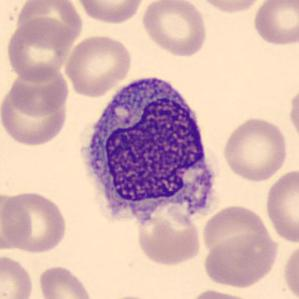Monocyte: (73, 68, 222, 232)
RBC: (132, 200, 204, 268), (220, 114, 290, 183), (199, 203, 276, 265), (201, 231, 281, 289), (62, 33, 134, 97), (2, 188, 69, 256), (5, 16, 74, 82), (0, 87, 70, 147), (139, 0, 209, 57), (6, 64, 70, 118), (15, 1, 85, 48), (264, 166, 298, 246), (250, 0, 298, 47), (36, 263, 97, 299), (0, 190, 35, 252), (72, 0, 147, 25), (0, 252, 35, 299), (195, 0, 268, 15), (281, 240, 299, 299), (184, 286, 261, 299), (286, 84, 299, 145), (96, 293, 164, 299)
